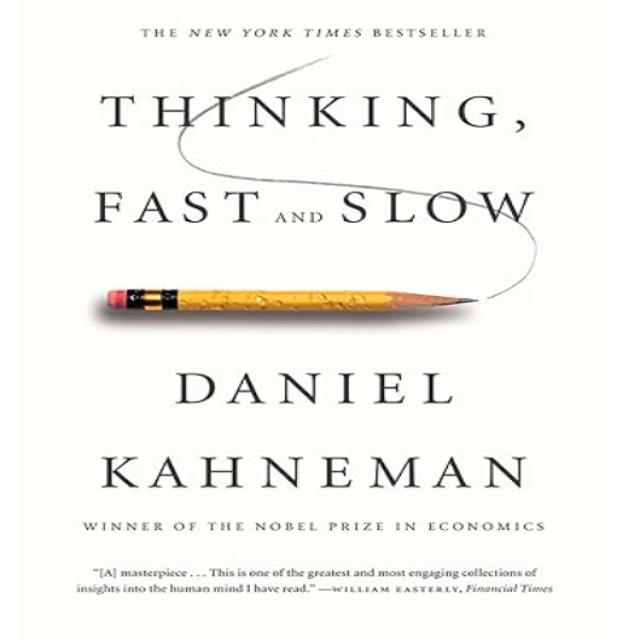titles-or-authors: (83, 88, 539, 230), (88, 364, 535, 501)
